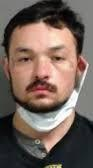Wore Mask Incorrectly: (0, 1, 93, 139)
